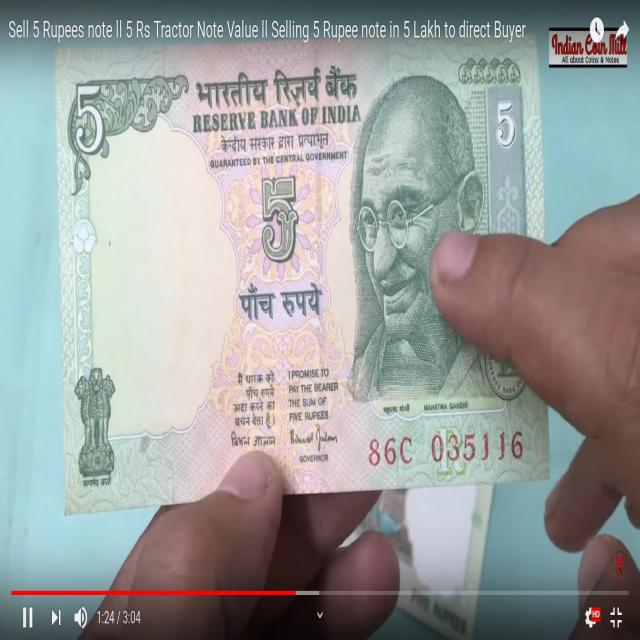5IndianRupees: (60, 61, 549, 492)
